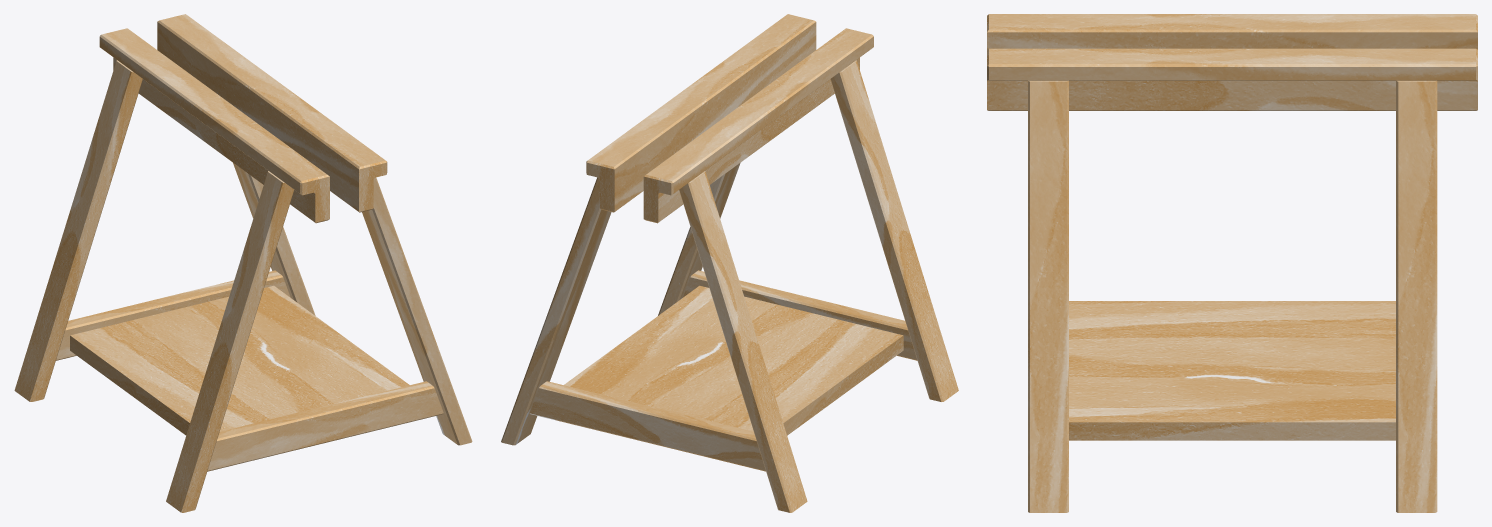
Rendered from Tests_Textures.fbx.
The picture shows the model from 3 angles, left to right: view 1: azimuth 30°, elevation 25°; view 2: azimuth 150°, elevation 25°; view 3: azimuth 270°, elevation 25°; orthographic projection. The views are drawn at different scales.
Parts seen in each view (by area): view 1: Cube.009; view 2: Cube.009; view 3: Cube.009.
Part boxes in pixels (left/top/right/bottom): Cube.009: left=14, top=14, right=472, bottom=512; Cube.009: left=501, top=14, right=958, bottom=512; Cube.009: left=987, top=14, right=1477, bottom=512.
Size of the model in its own units: 200 by 209 by 240.
